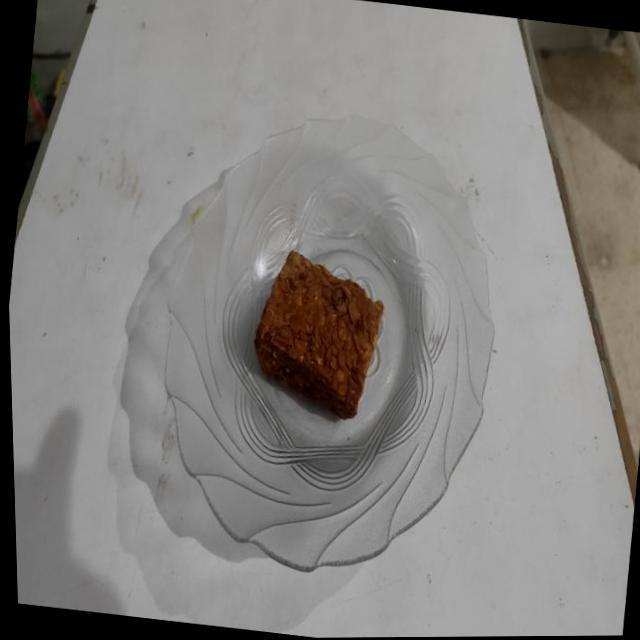tempe_goreng: (254, 251, 383, 418)
